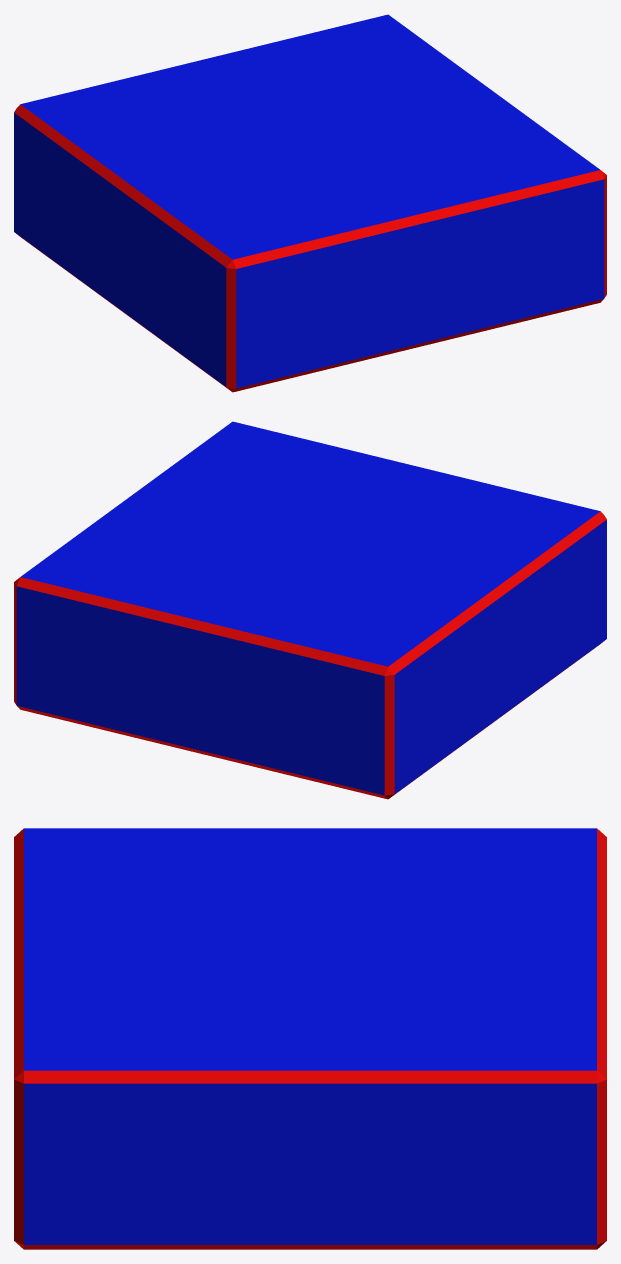
Rendered from L10_ButtonPlateform.fbx.
3 renders of one model, top to bottom at view 1: azimuth 30°, elevation 25°; view 2: azimuth 150°, elevation 25°; view 3: azimuth 270°, elevation 25°, orthographic. The views are drawn at different scales.
Parts seen in each view (by area): view 1: L10_ButtonPlateform; view 2: L10_ButtonPlateform; view 3: L10_ButtonPlateform.
Boxes of the visible parts, x1=… form: L10_ButtonPlateform: x1=14, y1=14, x2=606, y2=392; L10_ButtonPlateform: x1=14, y1=421, x2=606, y2=799; L10_ButtonPlateform: x1=14, y1=828, x2=606, y2=1249.
Size of the model in its own units: 300 by 100 by 300.
